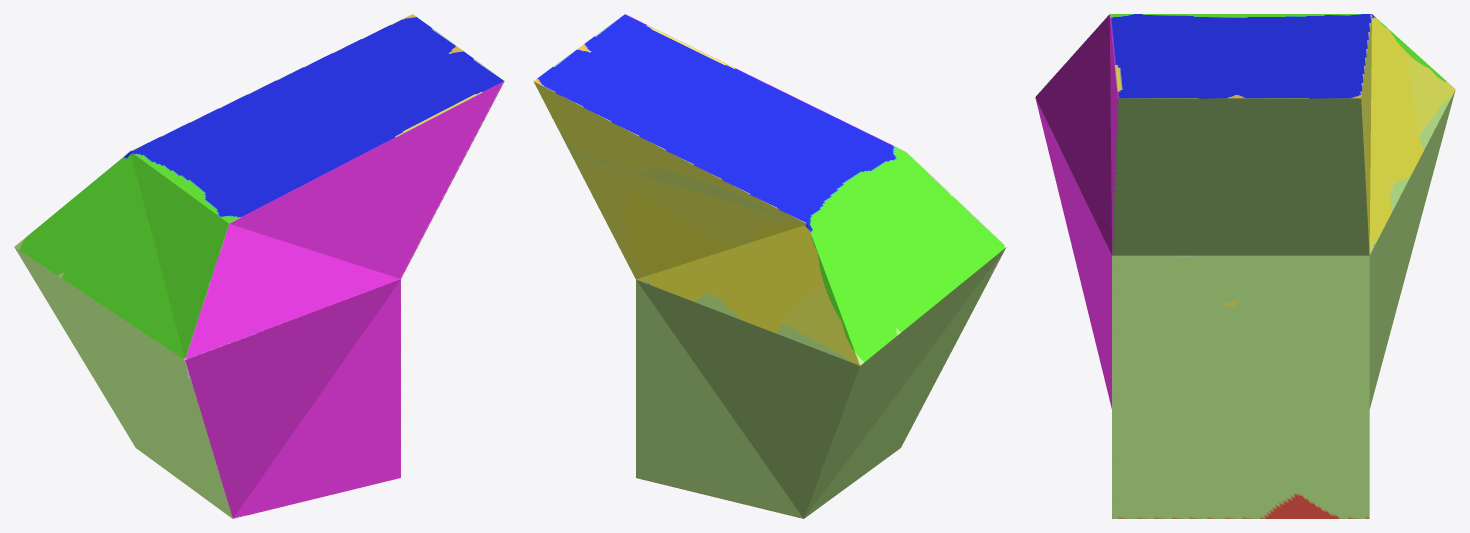
Rendered from lightbulb.obj.
3 views of the same model, side by side, from view 1: azimuth 30°, elevation 25°; view 2: azimuth 150°, elevation 25°; view 3: azimuth 270°, elevation 25° (orthographic). The views are drawn at different scales.
Visible parts, largest first — view 1: Cube_Cube.001; view 2: Cube_Cube.001; view 3: Cube_Cube.001.
Boxes of the visible parts, x1,y1,x2,y2 form: Cube_Cube.001: (14, 14, 504, 518); Cube_Cube.001: (533, 14, 1006, 518); Cube_Cube.001: (1035, 14, 1455, 518).
Size of the model in its own units: 0.466 by 0.4529 by 0.3529.
Materials: 1 (1 with a texture image).
